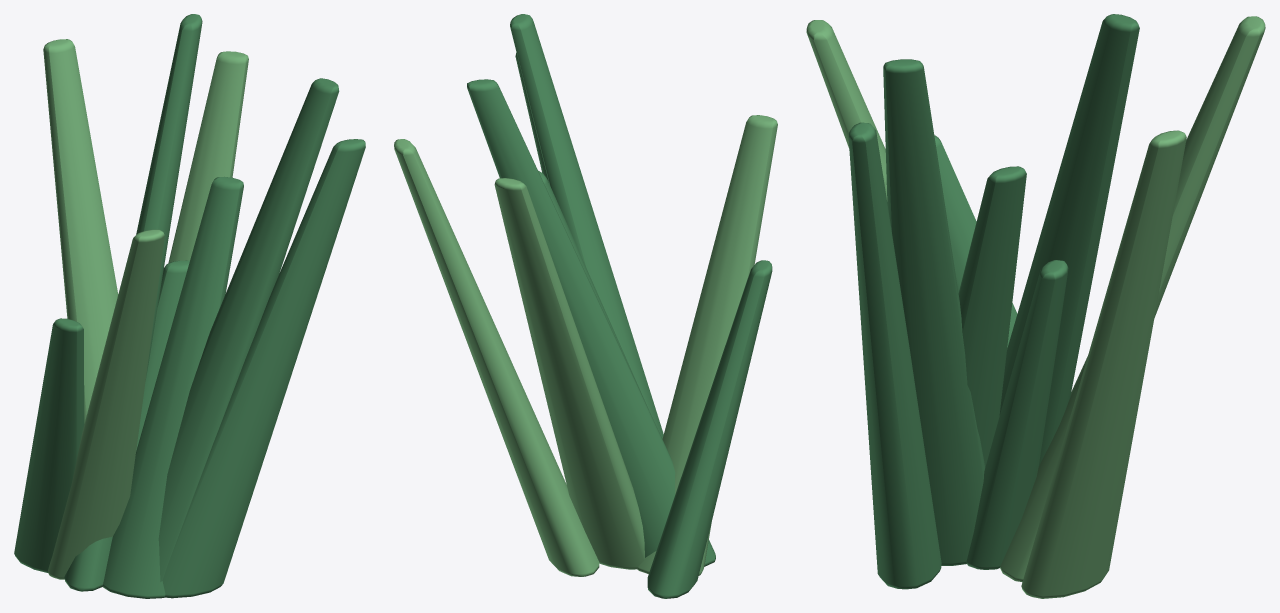
File: prop_uw_eelgrass_c.glb
The picture shows the model from 3 angles, left to right: view 1: azimuth 30°, elevation 25°; view 2: azimuth 150°, elevation 25°; view 3: azimuth 270°, elevation 25°; orthographic projection. The views are drawn at different scales.
Visible parts, largest first — view 1: eelc_8, eelc_7, eelc_1, eelc_3, eelc_0, eelc_4, eelc_2, eelc_6, eelc_5; view 2: eelc_0, eelc_2, eelc_6, eelc_3, eelc_4, eelc_7, eelc_1; view 3: eelc_6, eelc_7, eelc_8, eelc_2, eelc_5, eelc_1, eelc_0, eelc_3, eelc_4.
Boxes of the visible parts, left/top/right/bottom form: eelc_8: left=162, top=139, right=365, bottom=598; eelc_7: left=158, top=78, right=339, bottom=581; eelc_1: left=102, top=177, right=243, bottom=598; eelc_3: left=48, top=229, right=164, bottom=579; eelc_0: left=43, top=39, right=118, bottom=423; eelc_4: left=14, top=318, right=84, bottom=572; eelc_2: left=64, top=14, right=202, bottom=591; eelc_6: left=168, top=51, right=248, bottom=263; eelc_5: left=136, top=260, right=189, bottom=450; eelc_0: left=494, top=178, right=644, bottom=569; eelc_2: left=467, top=79, right=715, bottom=566; eelc_6: left=394, top=139, right=599, bottom=576; eelc_3: left=637, top=115, right=777, bottom=575; eelc_4: left=647, top=260, right=772, bottom=598; eelc_7: left=510, top=14, right=663, bottom=438; eelc_1: left=538, top=171, right=645, bottom=402; eelc_6: left=1021, top=130, right=1186, bottom=598; eelc_7: left=883, top=59, right=985, bottom=565; eelc_8: left=848, top=122, right=941, bottom=589; eelc_2: left=999, top=14, right=1139, bottom=466; eelc_5: left=966, top=260, right=1068, bottom=569; eelc_1: left=958, top=166, right=1026, bottom=467; eelc_0: left=1000, top=16, right=1265, bottom=582; eelc_3: left=806, top=20, right=887, bottom=201; eelc_4: left=934, top=135, right=1017, bottom=347.
Bounding box in the file's own units: 0.3332 × 0.5416 × 0.3702.
